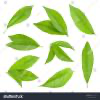Peach leaf: (36, 66, 77, 89), (68, 3, 96, 36), (5, 4, 35, 32), (42, 5, 68, 36), (80, 40, 94, 89), (7, 55, 40, 72), (4, 39, 39, 52), (51, 43, 74, 62), (4, 67, 23, 89), (33, 19, 56, 35), (52, 39, 76, 52), (19, 69, 40, 82), (7, 34, 34, 44), (44, 45, 55, 64)
